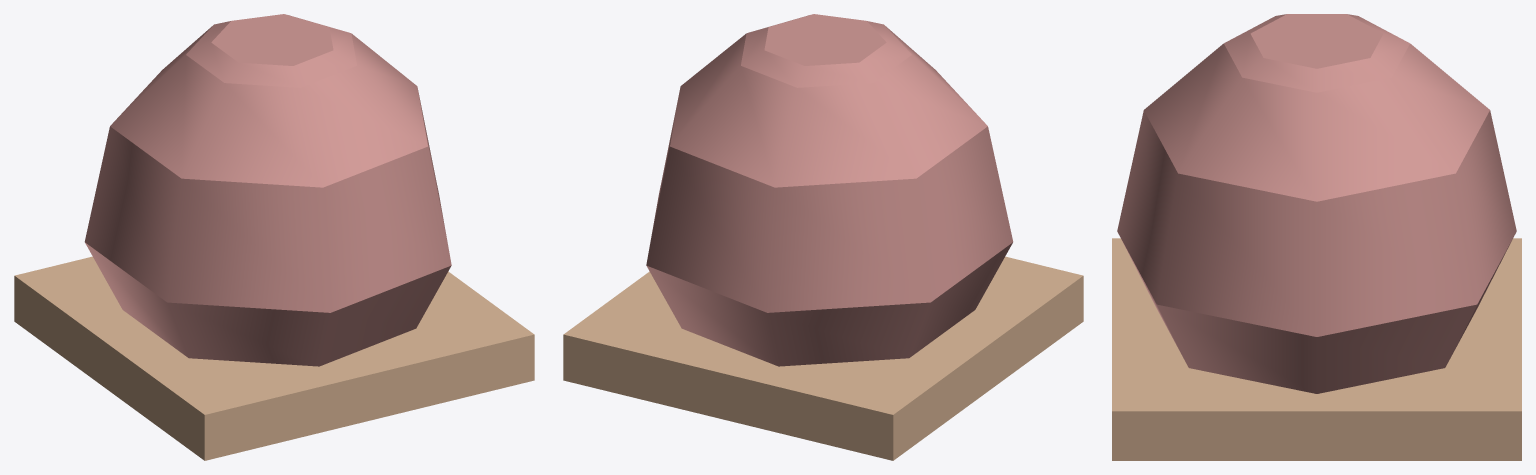
Rendered from saltLamp.glb.
The picture shows the model from 3 angles, left to right: view 1: azimuth 30°, elevation 25°; view 2: azimuth 150°, elevation 25°; view 3: azimuth 270°, elevation 25°; orthographic projection. The views are drawn at different scales.
Parts seen in each view (by area): view 1: saltLamp; view 2: saltLamp; view 3: saltLamp.
Part boxes in pixels (x1,y1,x2,y2): saltLamp: [14, 14, 534, 460]; saltLamp: [563, 14, 1083, 460]; saltLamp: [1112, 14, 1521, 460].
Size of the model in its own units: 0.15 by 0.135 by 0.15.
